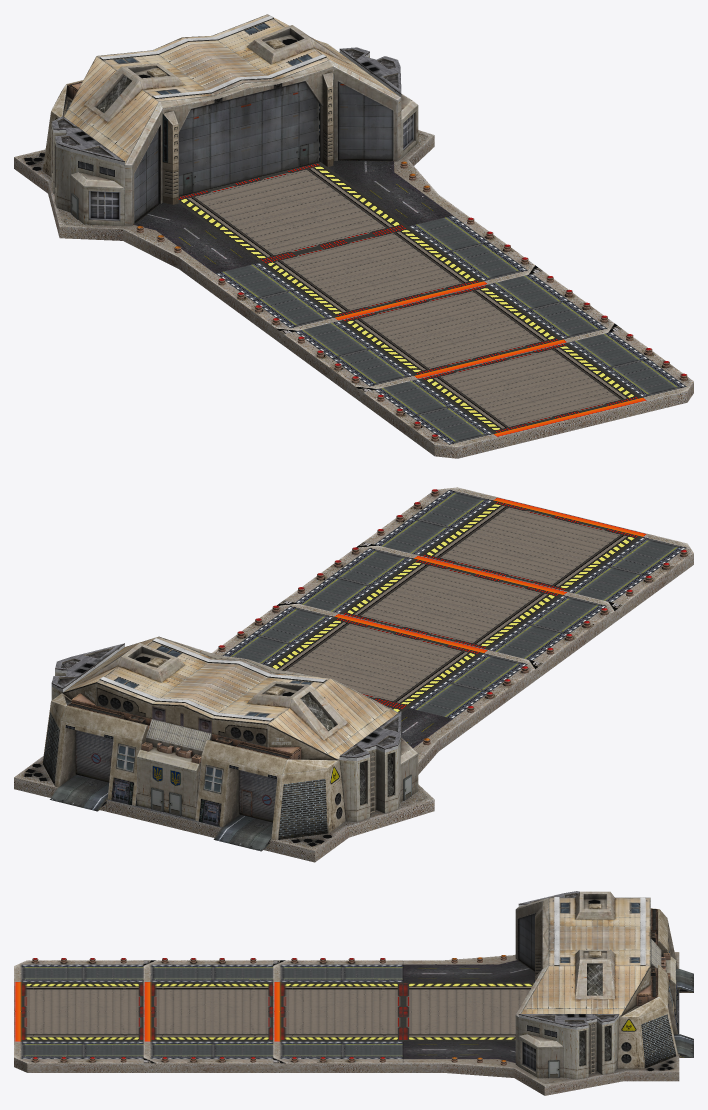
The model's file is Finish_Point-1.FBX.
3 views of the same model, one above another, from view 1: azimuth 30°, elevation 25°; view 2: azimuth 150°, elevation 25°; view 3: azimuth 270°, elevation 25° (orthographic). The views are drawn at different scales.
Visible parts, largest first — view 1: Finish_Point-1; view 2: Finish_Point-1; view 3: Finish_Point-1.
Part boxes in pixels (x1,y1,x2,y2): Finish_Point-1: (14, 14, 693, 458); Finish_Point-1: (14, 487, 693, 862); Finish_Point-1: (14, 891, 693, 1095).
Bounding box in the file's own units: 88.97 × 26.6 × 171.
Materials: 2 (2 with a texture image).
